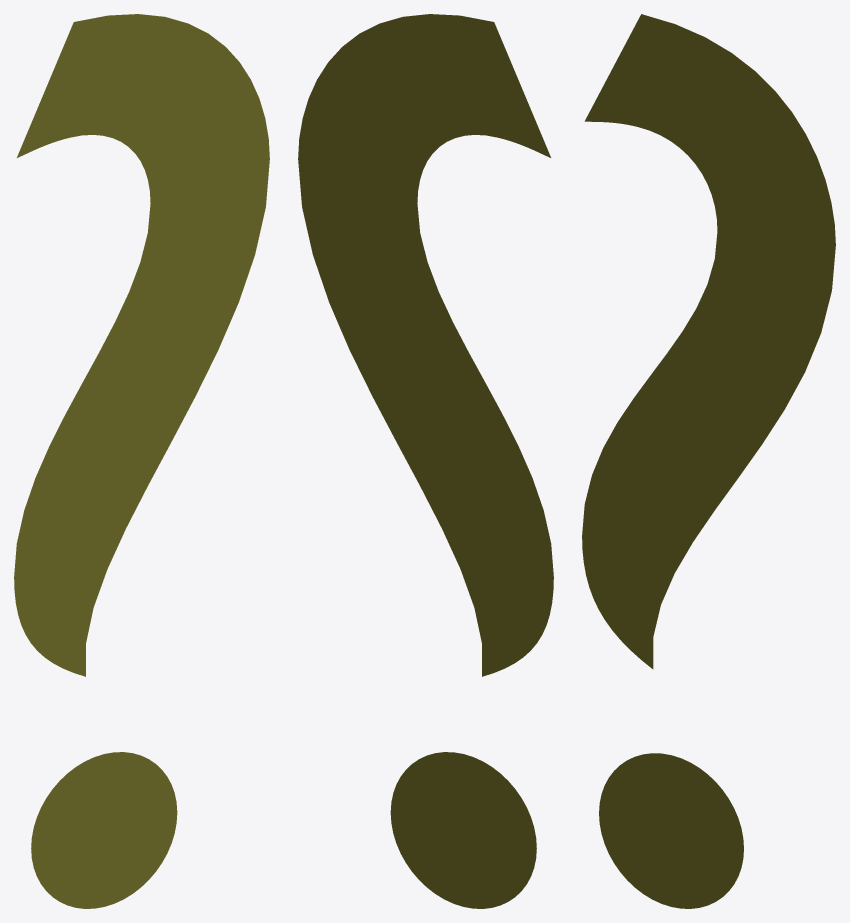
Rendered from Confusion.glb.
3 renders of one model, left to right at view 1: azimuth 30°, elevation 25°; view 2: azimuth 150°, elevation 25°; view 3: azimuth 330°, elevation 25°, orthographic.
Parts seen in each view (by area): view 1: Text; view 2: Text; view 3: Text.
Part boxes in pixels (x1,y1,x2,y2): Text: (14, 14, 269, 908); Text: (298, 14, 553, 908); Text: (582, 14, 835, 908).
Size of the model in its own units: 0.21 by 0.7 by 1.55e-16.
